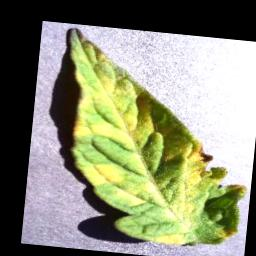Leaf_Mold: (49, 27, 256, 252)
